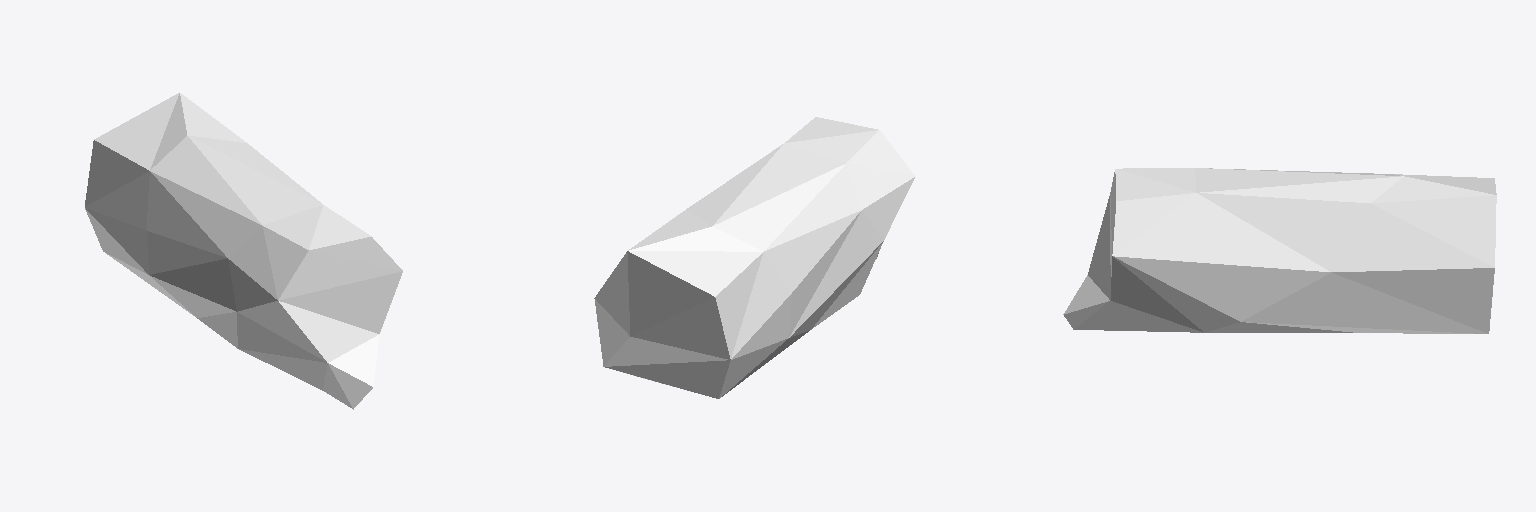
Rendered from sim_ecub_1-1_l_hand_pinkie_1.obj.
3 views of the same model, side by side, from view 1: azimuth 30°, elevation 25°; view 2: azimuth 150°, elevation 25°; view 3: azimuth 270°, elevation 25° (orthographic).
Size of the model in its own units: 16.91 by 18.34 by 47.03.